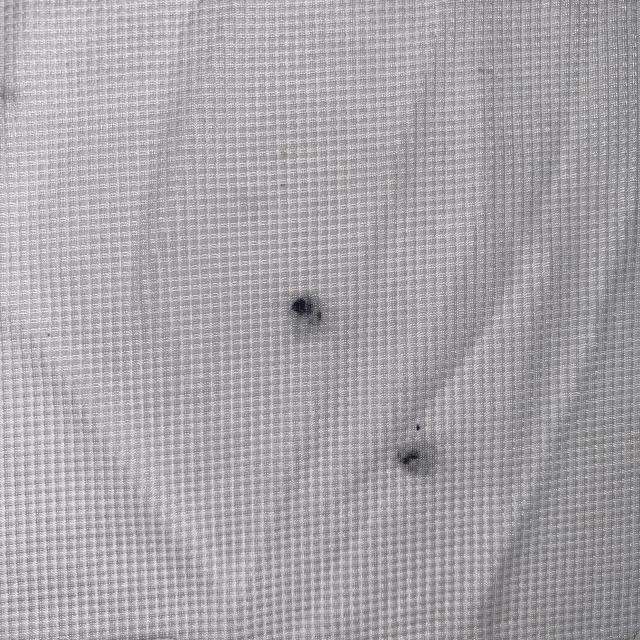Stain: (282, 286, 332, 337), (388, 432, 439, 477)
